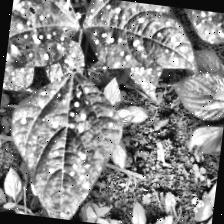Bean Rust: (4, 72, 120, 224), (75, 0, 201, 78), (3, 0, 82, 88), (176, 8, 224, 44), (124, 62, 164, 102), (2, 66, 36, 97)
